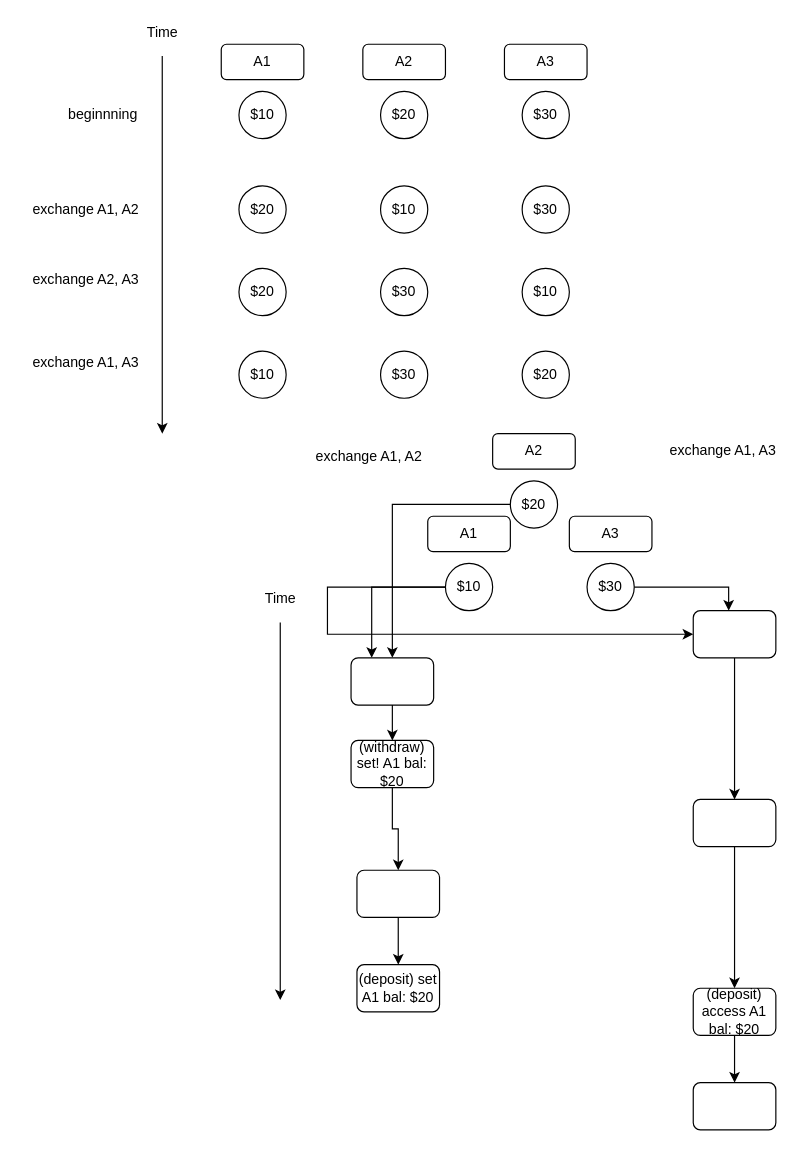
The diagram is 807 pixels wide and 1152 high, and some of its shapes have lost their labels. Each missing label, with the centre of its shape:
(deposit) access A1 bal: $30: the point at 398,893
(deposit) set! A1 bal: $40: the point at 734,1105
(withdraw) set! A1 bal: $30: the point at 734,822
diff: $10: the point at 392,681
diff: $20: the point at 734,633
